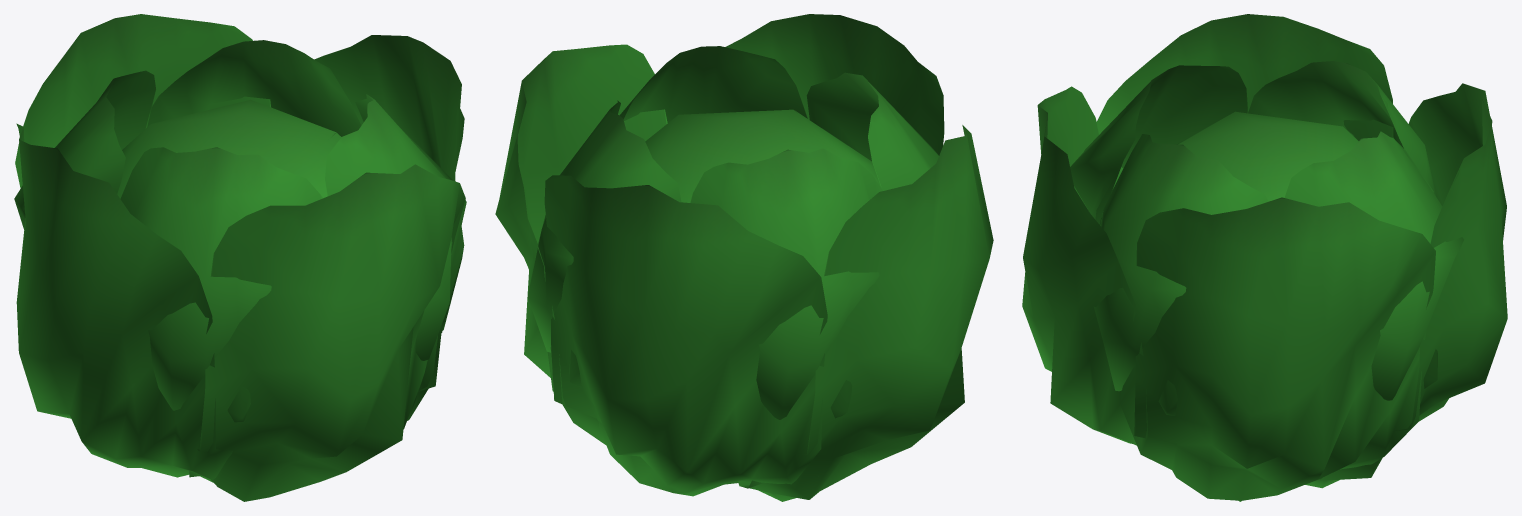
Rendered from Lettuce2.fbx.
3 renders of one model, left to right at view 1: azimuth 30°, elevation 25°; view 2: azimuth 150°, elevation 25°; view 3: azimuth 270°, elevation 25°, orthographic. The views are drawn at different scales.
Visible parts, largest first — view 1: Lettuce.010; view 2: Lettuce.010; view 3: Lettuce.010.
Boxes of the visible parts, x1,y1,x2,y2 form: Lettuce.010: (14, 14, 466, 501); Lettuce.010: (495, 14, 993, 501); Lettuce.010: (1022, 14, 1507, 501).
Bounding box in the file's own units: 24.29 × 24.29 × 20.64.
Materials: 1 (1 with a texture image).
